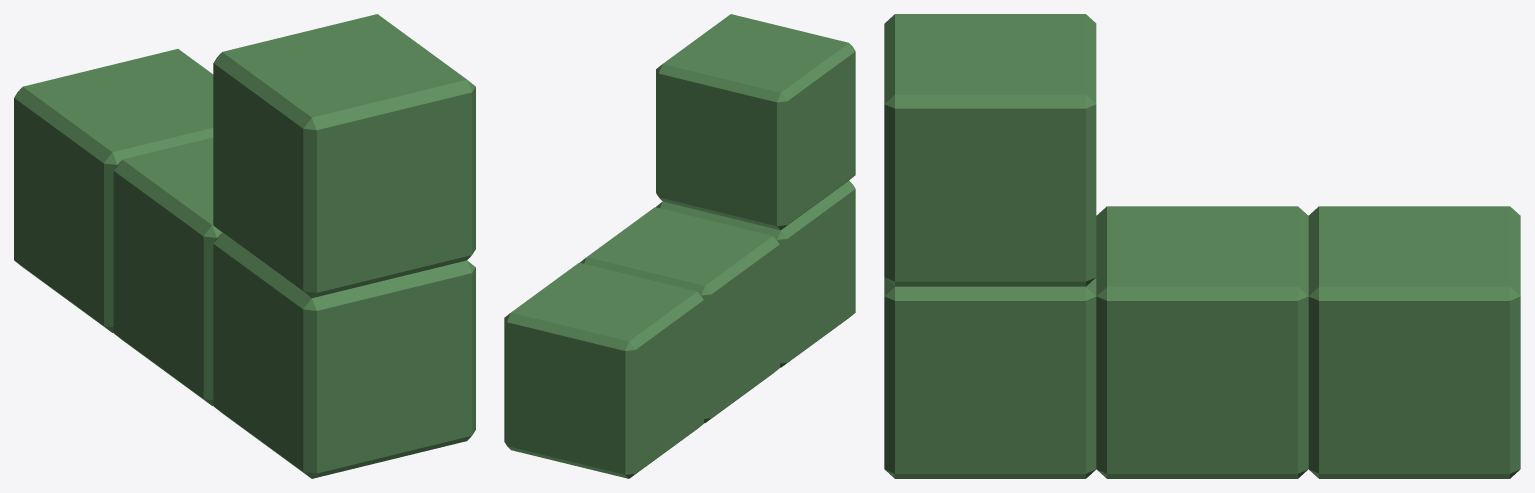
3 views of the same model, side by side, from view 1: azimuth 30°, elevation 25°; view 2: azimuth 150°, elevation 25°; view 3: azimuth 270°, elevation 25° (orthographic). The views are drawn at different scales.
Parts seen in each view (by area): view 1: geo1; view 2: geo1; view 3: geo1.
Part boxes in pixels (x1,y1,x2,y2): geo1: (14, 14, 475, 478); geo1: (504, 14, 855, 478); geo1: (884, 14, 1520, 478).
Bounding box in the file's own units: 1 × 2 × 3.
